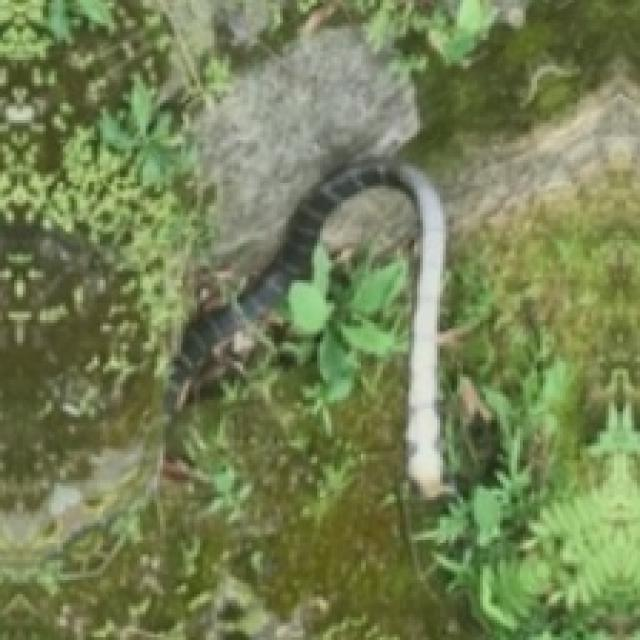king cobra: (0, 157, 443, 546), (166, 157, 443, 494)
